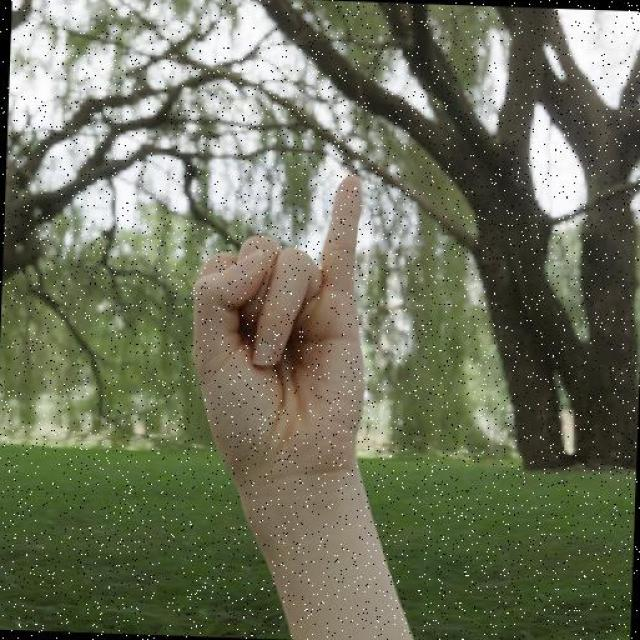I: (145, 132, 409, 580)
